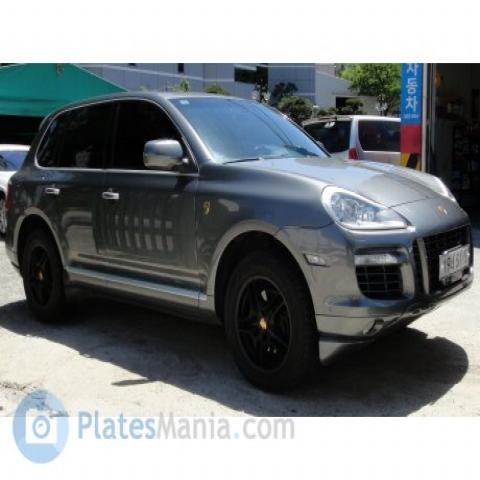LP: (432, 236, 472, 281)
